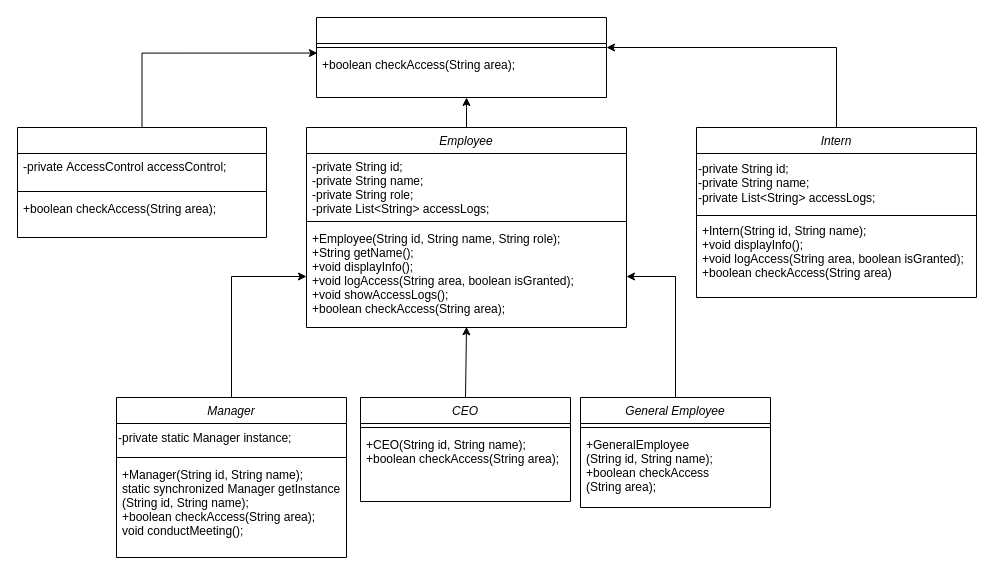
The diagram is 994 pixels wide and 578 high, and some of its shapes have lost their labels. Here are the shapes that lost their labels. From the top down, the box of each, then its label:
(316, 16, 606, 98): AccessControl
(16, 126, 266, 238): TimeBasedAccessDecorator
